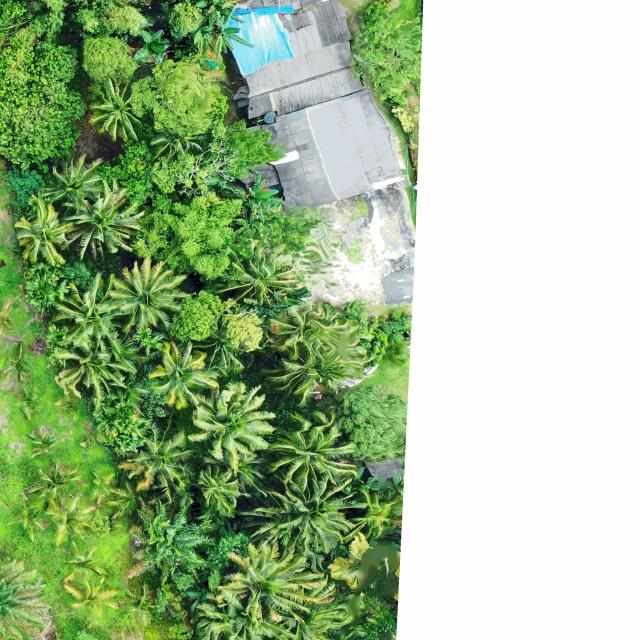0: (221, 534, 321, 626), (125, 492, 217, 589), (61, 185, 142, 262), (119, 424, 198, 501), (108, 258, 188, 334), (52, 273, 122, 355), (148, 342, 216, 410), (86, 75, 150, 142), (14, 198, 75, 266), (38, 492, 100, 548), (48, 152, 104, 208), (64, 571, 118, 623), (192, 321, 247, 372), (30, 460, 83, 512), (197, 464, 242, 516)
banana_tree2: (245, 172, 283, 225), (211, 19, 254, 55), (133, 30, 170, 64), (192, 18, 218, 58)
tree: (0, 40, 88, 173), (128, 56, 230, 140), (349, 0, 422, 106), (80, 32, 138, 82), (171, 288, 222, 342), (167, 0, 205, 40)
